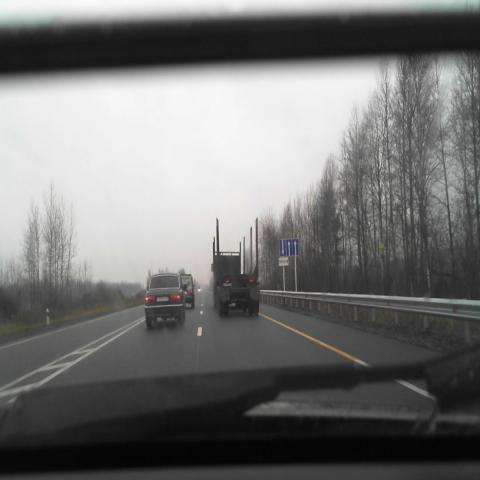5_15_7: (279, 239, 299, 256)
